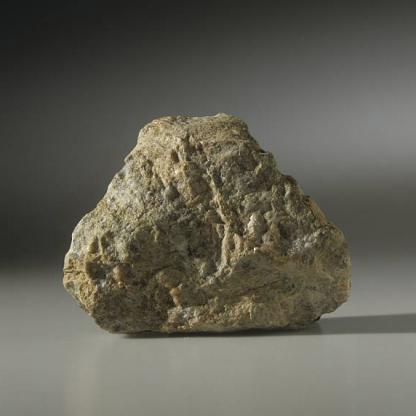Sedimentary_Limestone: (50, 110, 347, 335)
